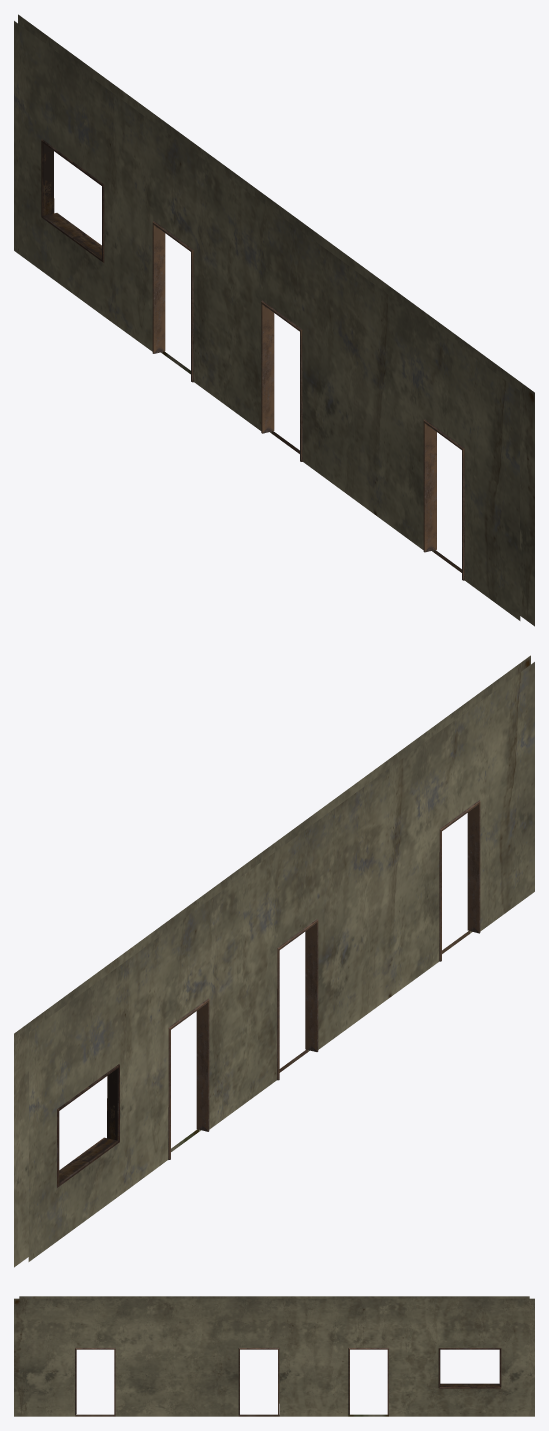
File: Support House Front.fbx
3 views of the same model, one above another, from view 1: azimuth 30°, elevation 25°; view 2: azimuth 150°, elevation 25°; view 3: azimuth 270°, elevation 25° (orthographic). The views are drawn at different scales.
Visible parts, largest first — view 1: Parede com porta .001; view 2: Parede com porta .001; view 3: Parede com porta .001.
Part boxes in pixels (x1,y1,x2,y2): Parede com porta .001: (14, 14, 534, 626); Parede com porta .001: (14, 655, 534, 1267); Parede com porta .001: (14, 1296, 534, 1416).
Bounding box in the file's own units: 24.65 × 356 × 1425.
